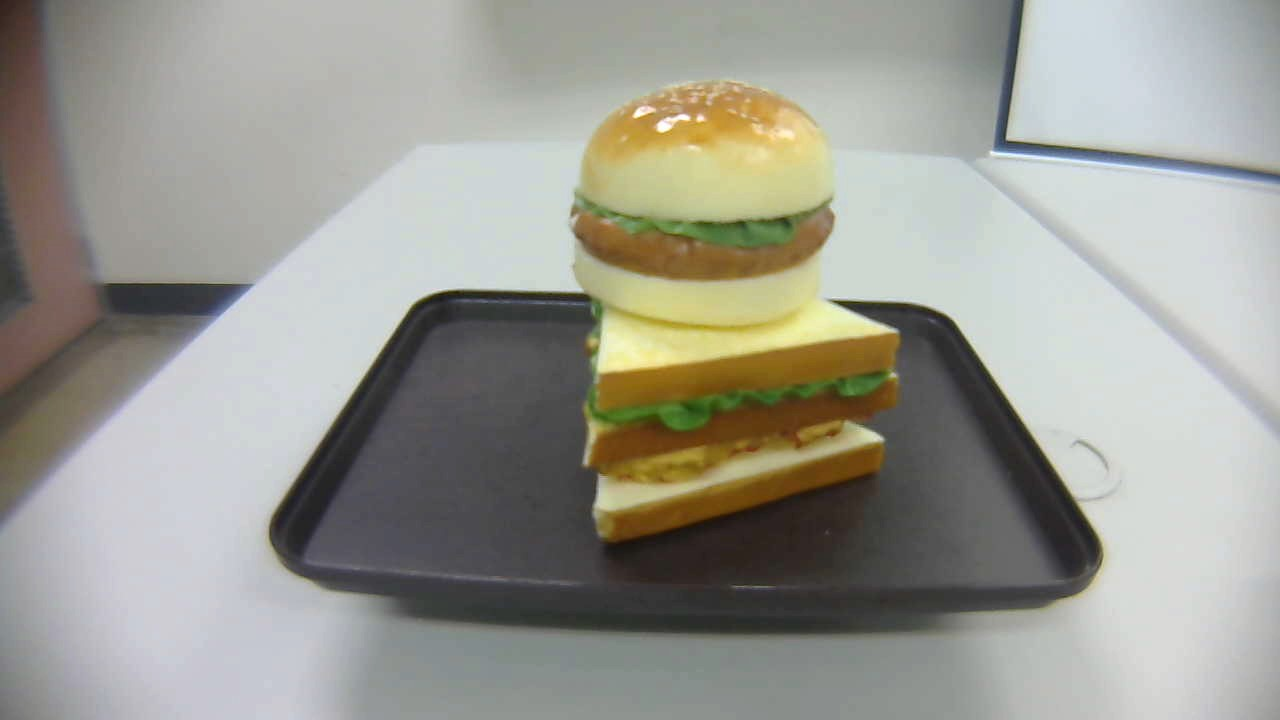hamburger: (570, 80, 836, 327)
sandwich: (586, 262, 901, 547)
